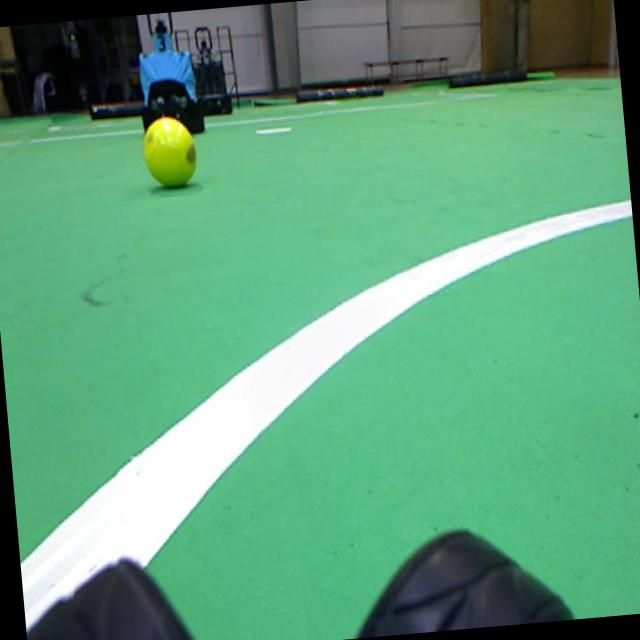ball: (143, 116, 195, 186)
robot: (192, 26, 231, 113)
